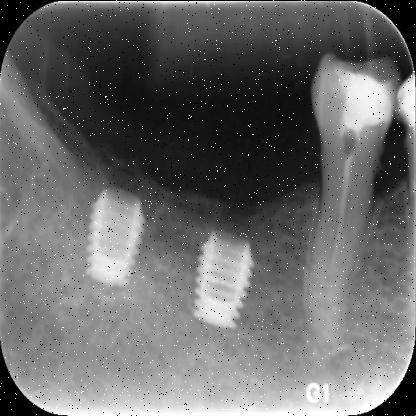Bicon: (193, 221, 256, 334), (84, 184, 148, 289)
